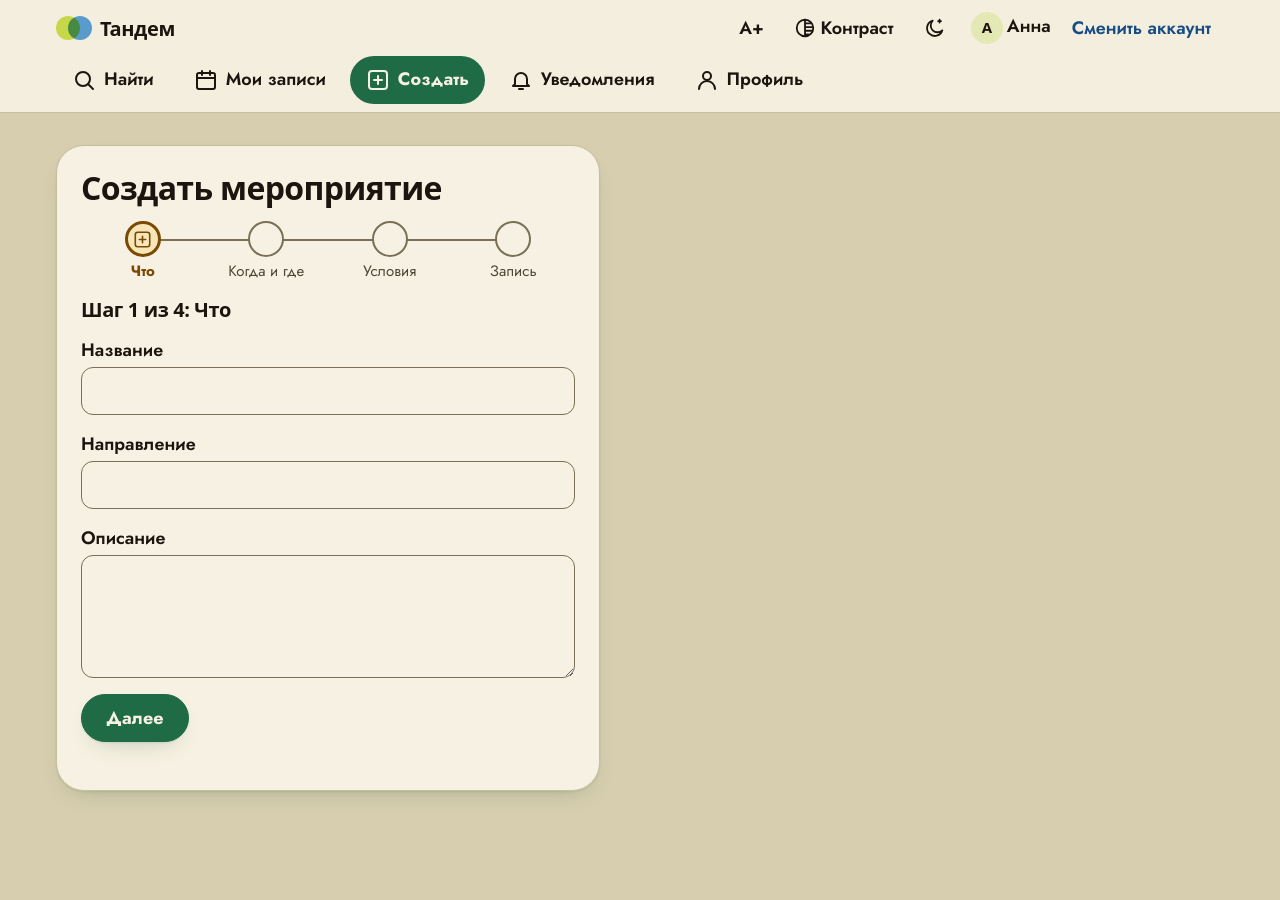
it: создание мероприятия › направления нет — «Добавить «…» как новое направление» и необязательная группа
Type "Падел для новичков" into the field labelled "Название".
click(328, 391); type("Падел для новичков")  # box [81,367,575,415]
Type "Падел" into the dropdown labelled "Направление".
click(328, 485); type("Падел")  # box [81,461,575,509]
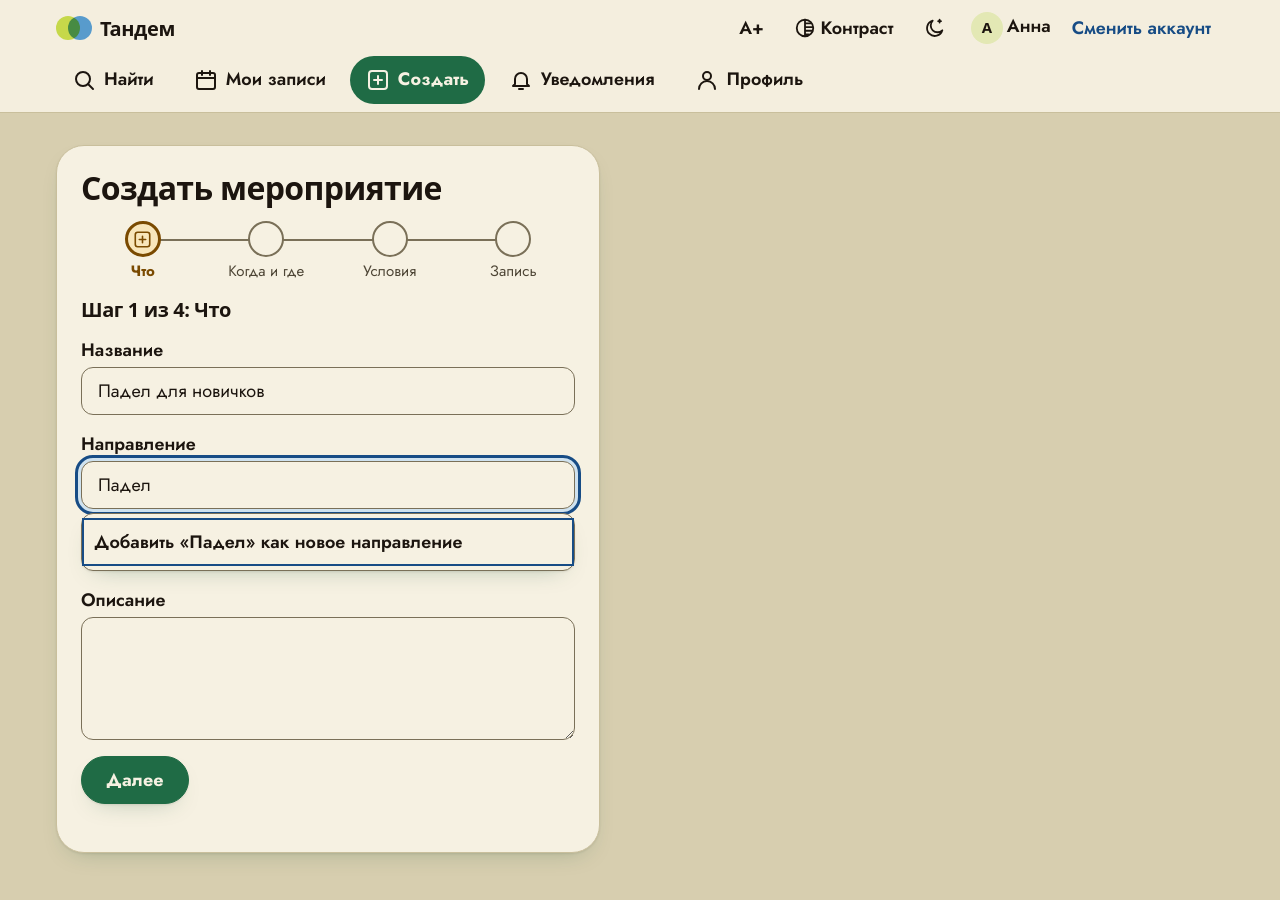
Press Enter
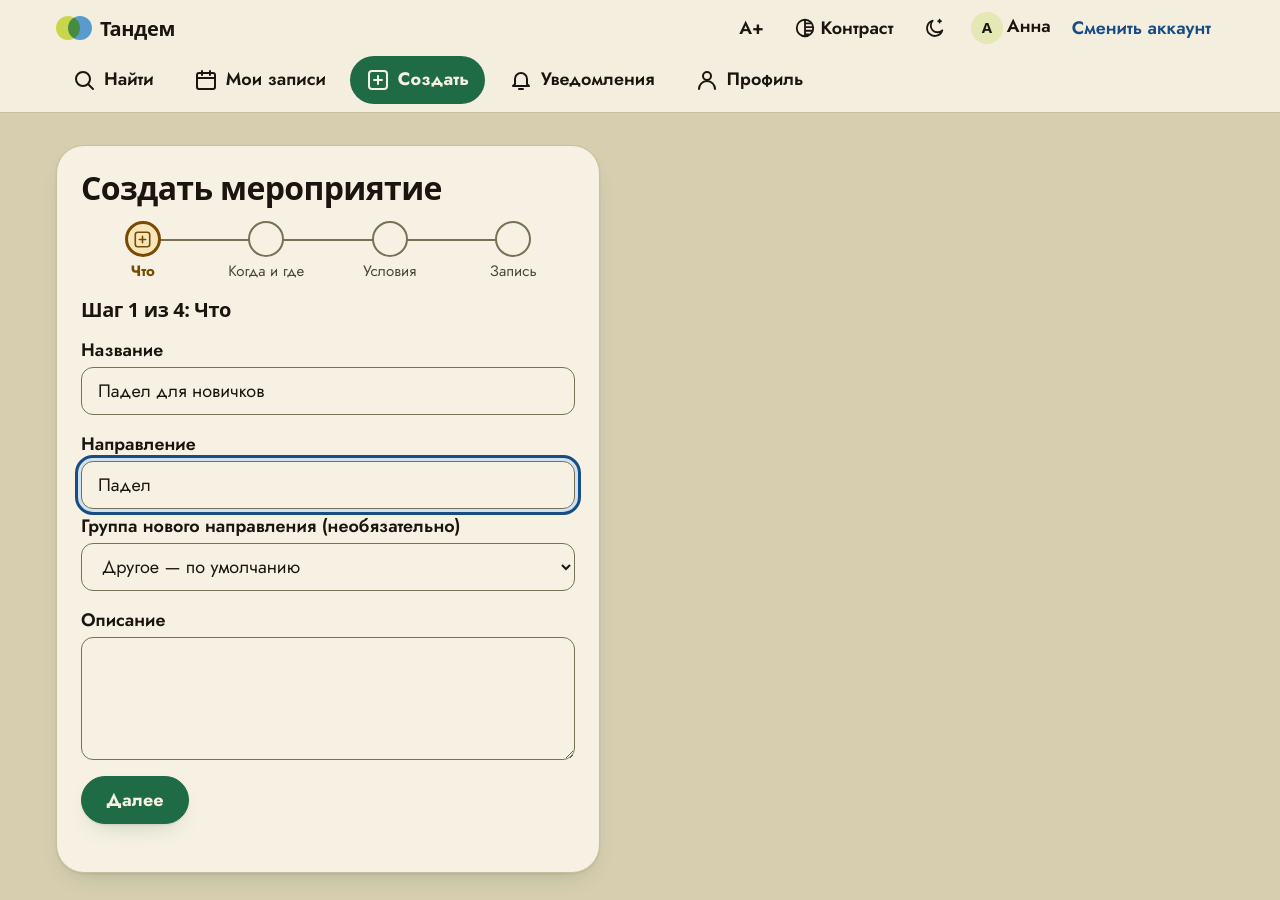
Select "Командные" in the dropdown labelled "Группа нового направления (необязательно)" at (328, 567), box [81,543,575,591]
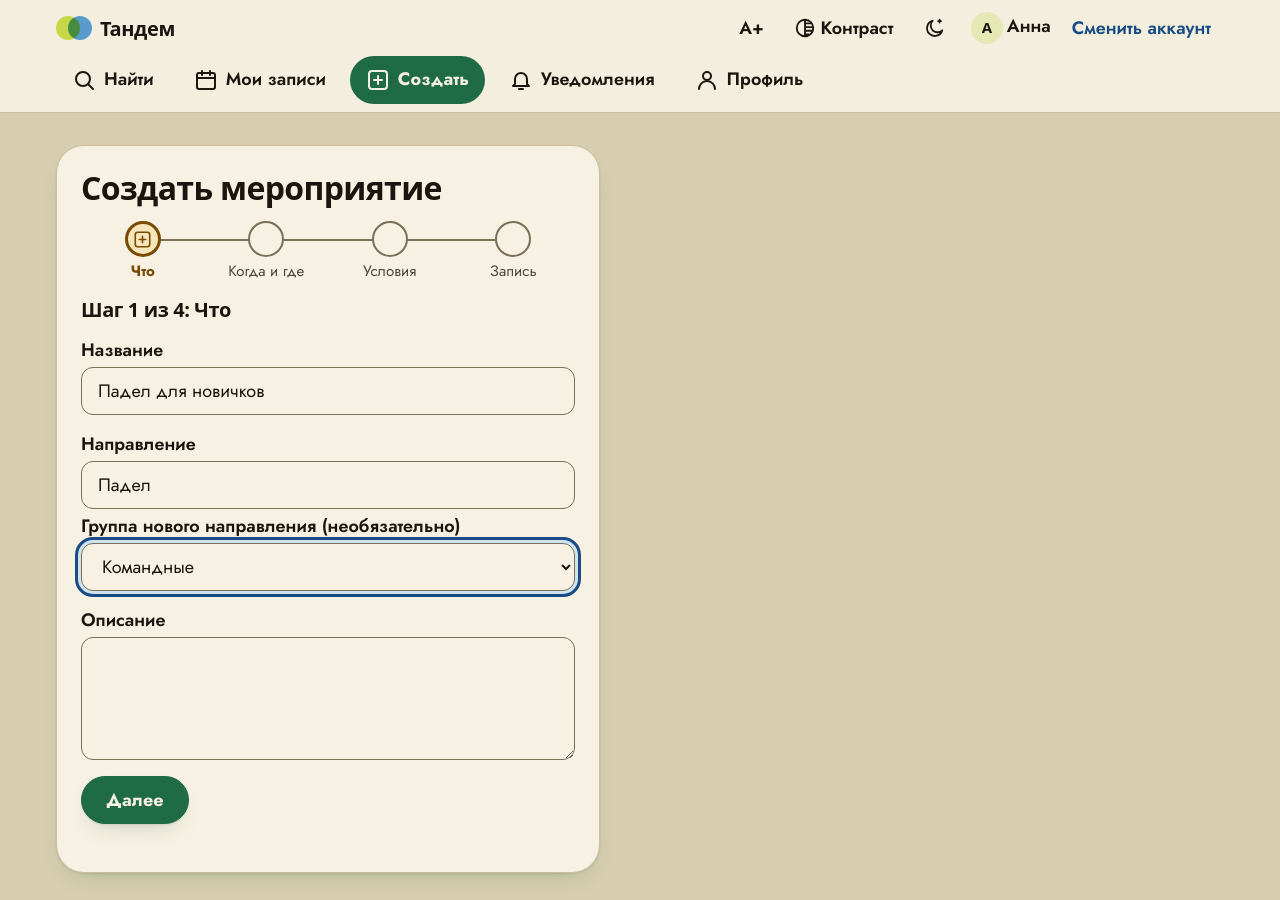
Type "Играем пара на пару" into the text box labelled "Описание".
click(328, 698); type("Играем пара на пару")  # box [81,637,575,760]
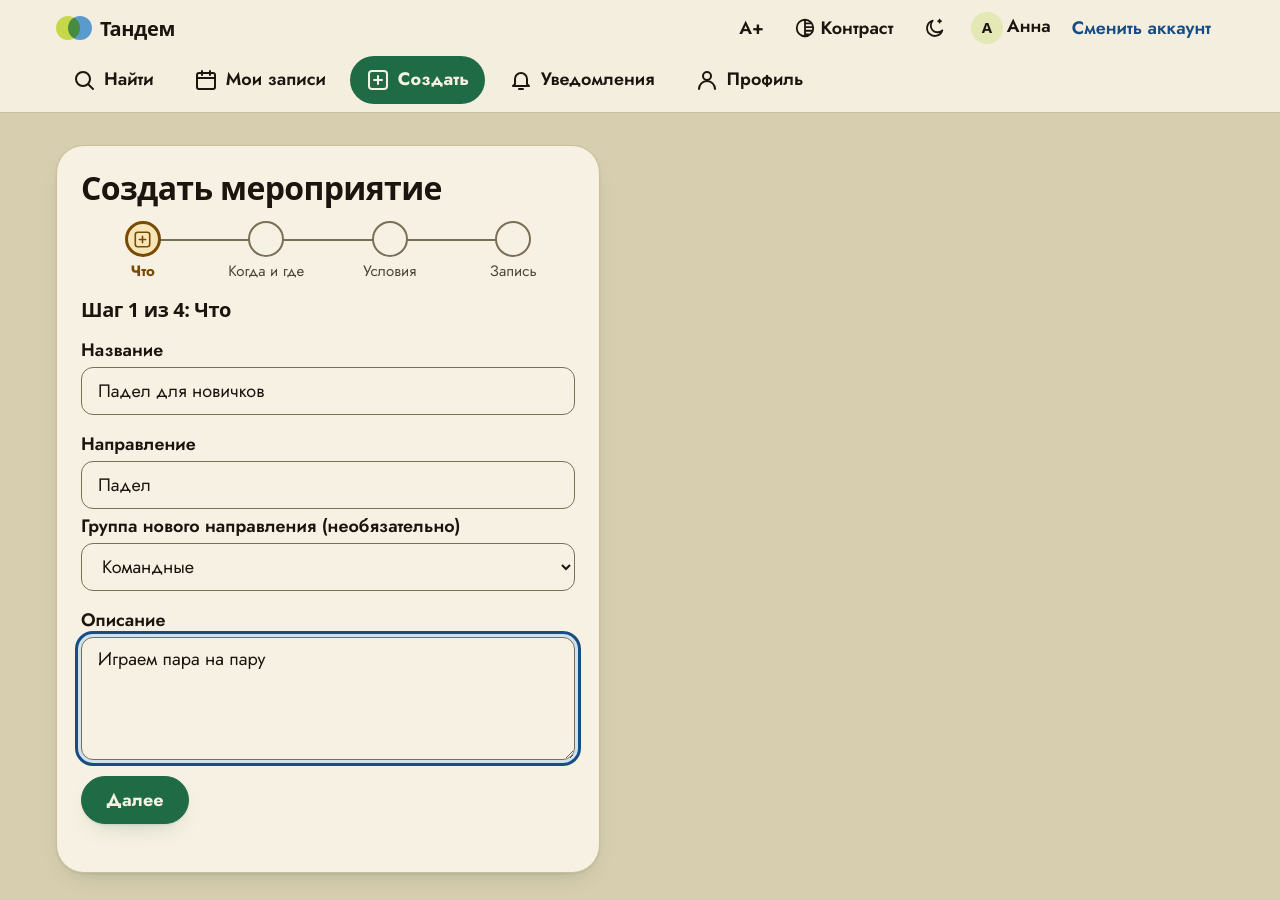
Click the button "Далее".
click(135, 800)  # box [81,776,189,824]
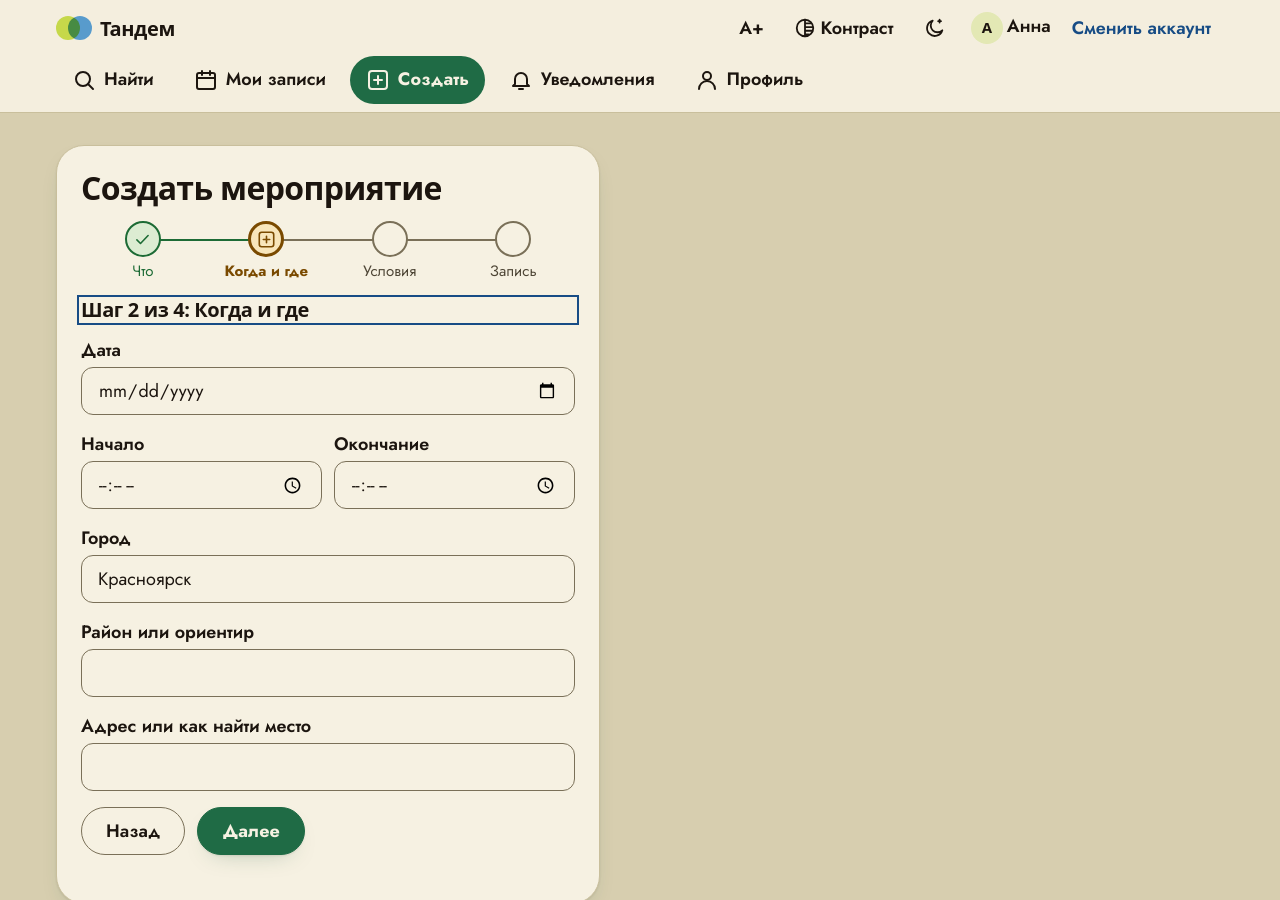
Expected: the heading "Шаг 2 из 4: Когда и где" is shown, [81,296,309,323]
Click the button "Назад".
click(133, 831)  # box [81,807,185,855]
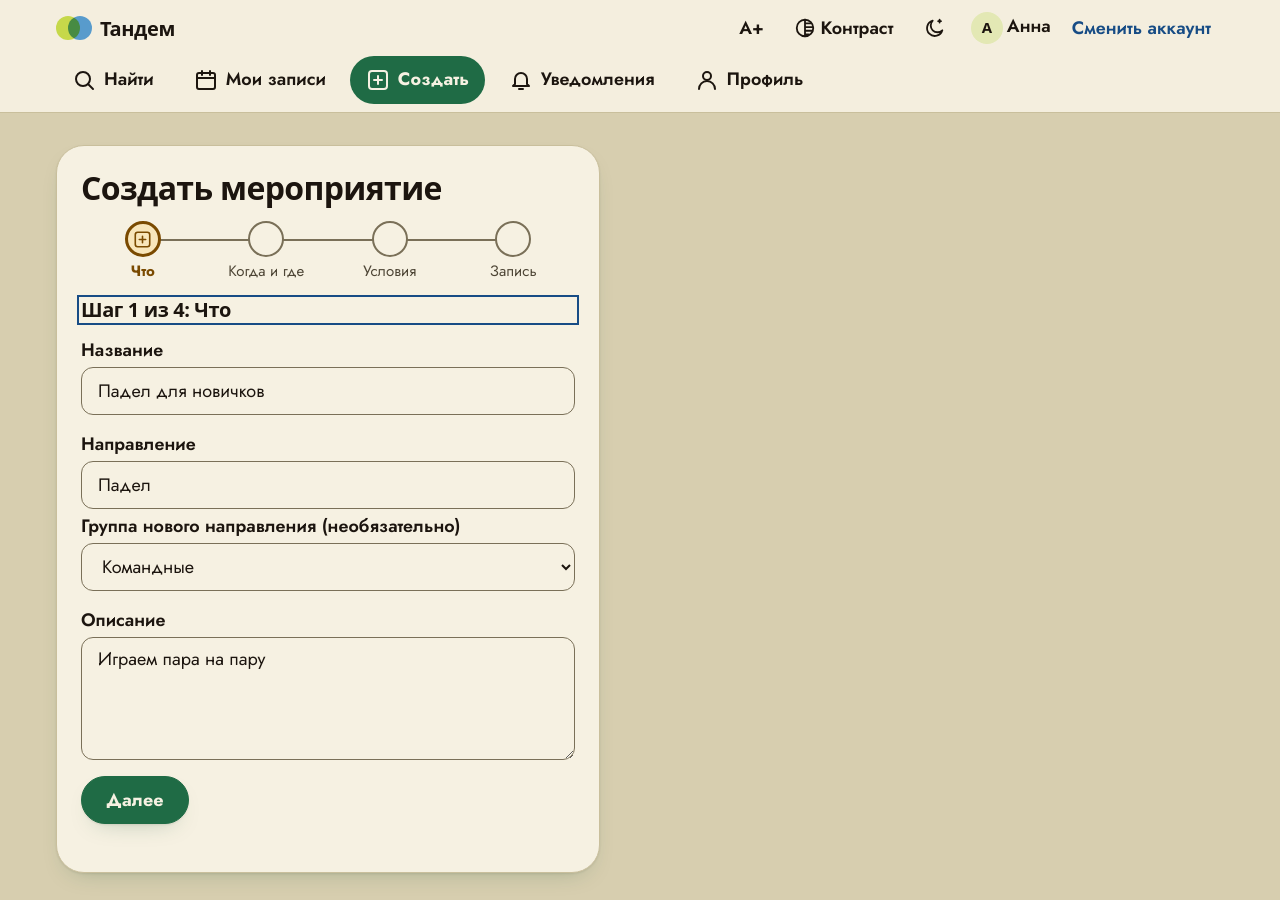
Expected: the dropdown labelled "Направление" holds "Падел", [81,461,575,509]
